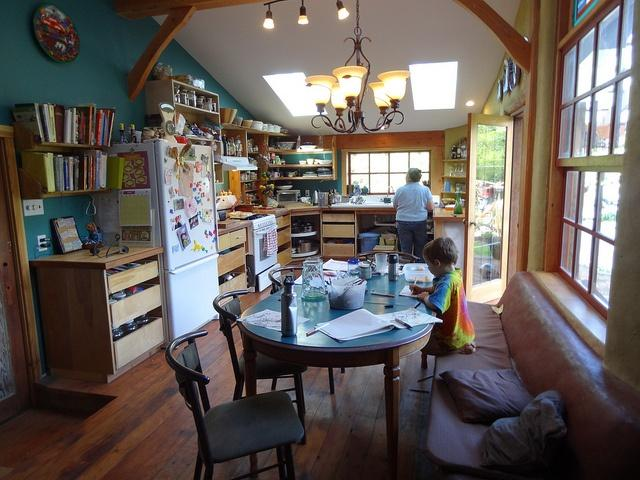Kursi: (165, 329, 305, 479), (215, 289, 308, 398)
Meja: (237, 260, 438, 372)
